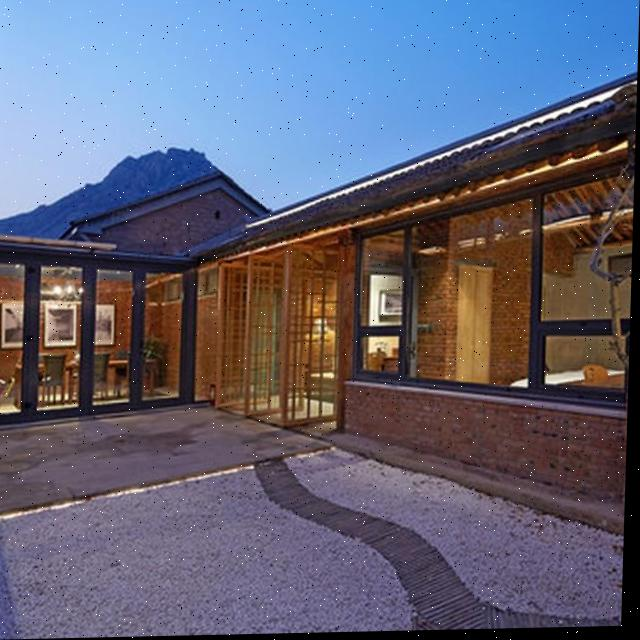building: (0, 71, 637, 516)
